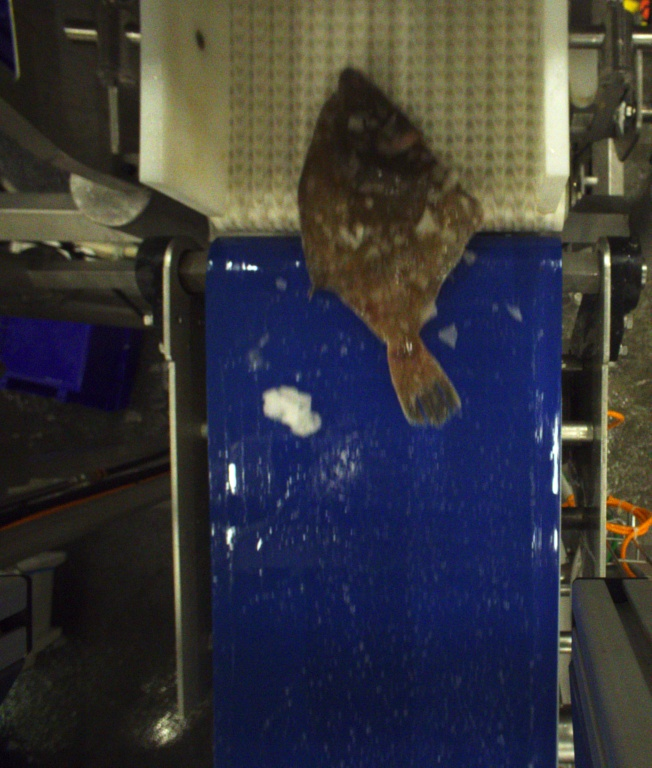PLE: (296, 66, 486, 430)
